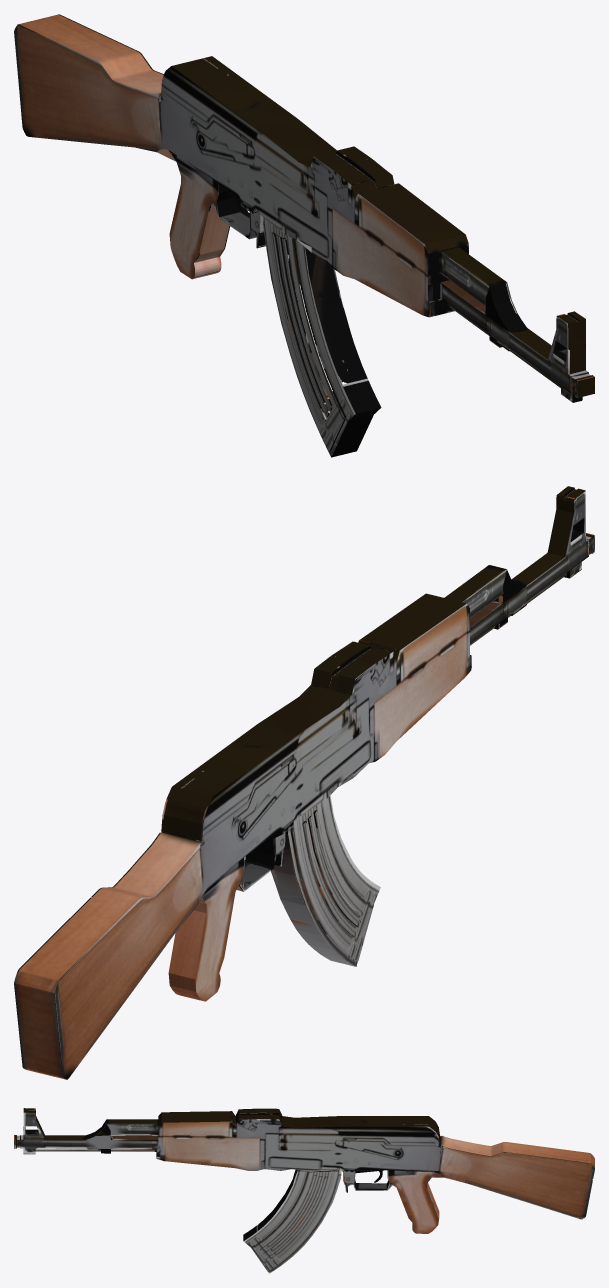
The picture shows the model from 3 angles, top to bottom: view 1: azimuth 30°, elevation 25°; view 2: azimuth 150°, elevation 25°; view 3: azimuth 270°, elevation 25°; orthographic projection. The views are drawn at different scales.
Visible parts, largest first — view 1: ak-47; view 2: ak-47; view 3: ak-47.
Part boxes in pixels (bbox=[...]): ak-47: bbox=[14, 14, 594, 457]; ak-47: bbox=[14, 486, 594, 1079]; ak-47: bbox=[14, 1108, 594, 1273].
Bounding box in the file's own units: 4.25 × 28.25 × 92.85.
